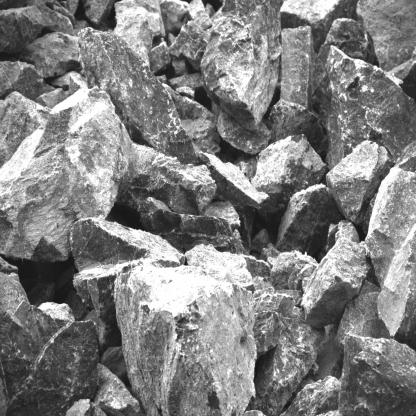stone: (113, 254, 258, 416), (0, 85, 131, 262), (77, 27, 199, 166), (0, 272, 100, 416), (319, 46, 416, 168), (200, 0, 284, 132), (250, 306, 323, 416), (250, 134, 329, 226), (300, 237, 373, 329), (326, 140, 397, 234), (338, 332, 416, 416), (139, 197, 236, 254), (275, 183, 342, 259), (199, 153, 269, 207), (280, 25, 313, 113), (186, 245, 253, 287), (168, 20, 211, 72), (0, 5, 45, 54), (0, 60, 44, 101), (82, 0, 114, 27)
